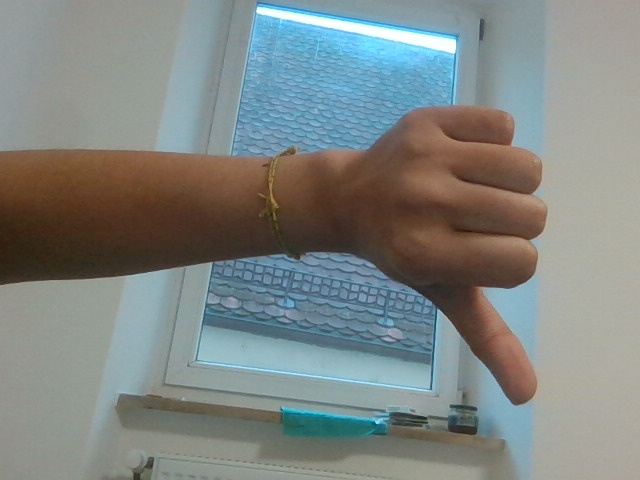thumbs_down: (326, 67, 617, 413)
